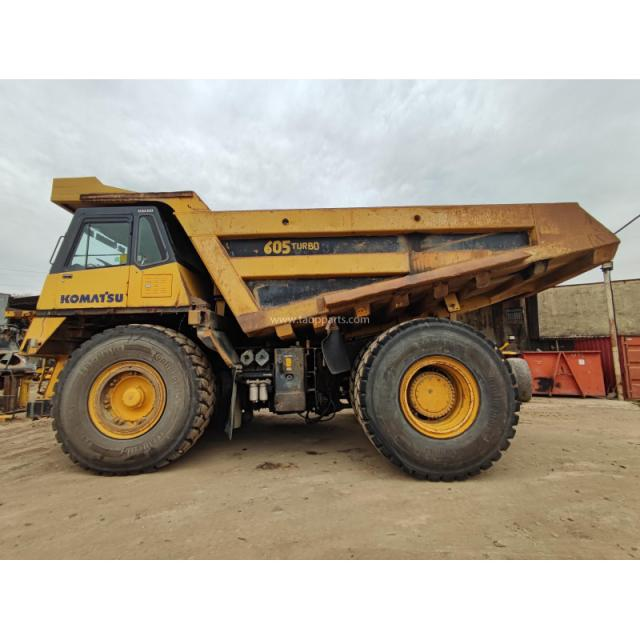dump_truck: (31, 169, 622, 485)
